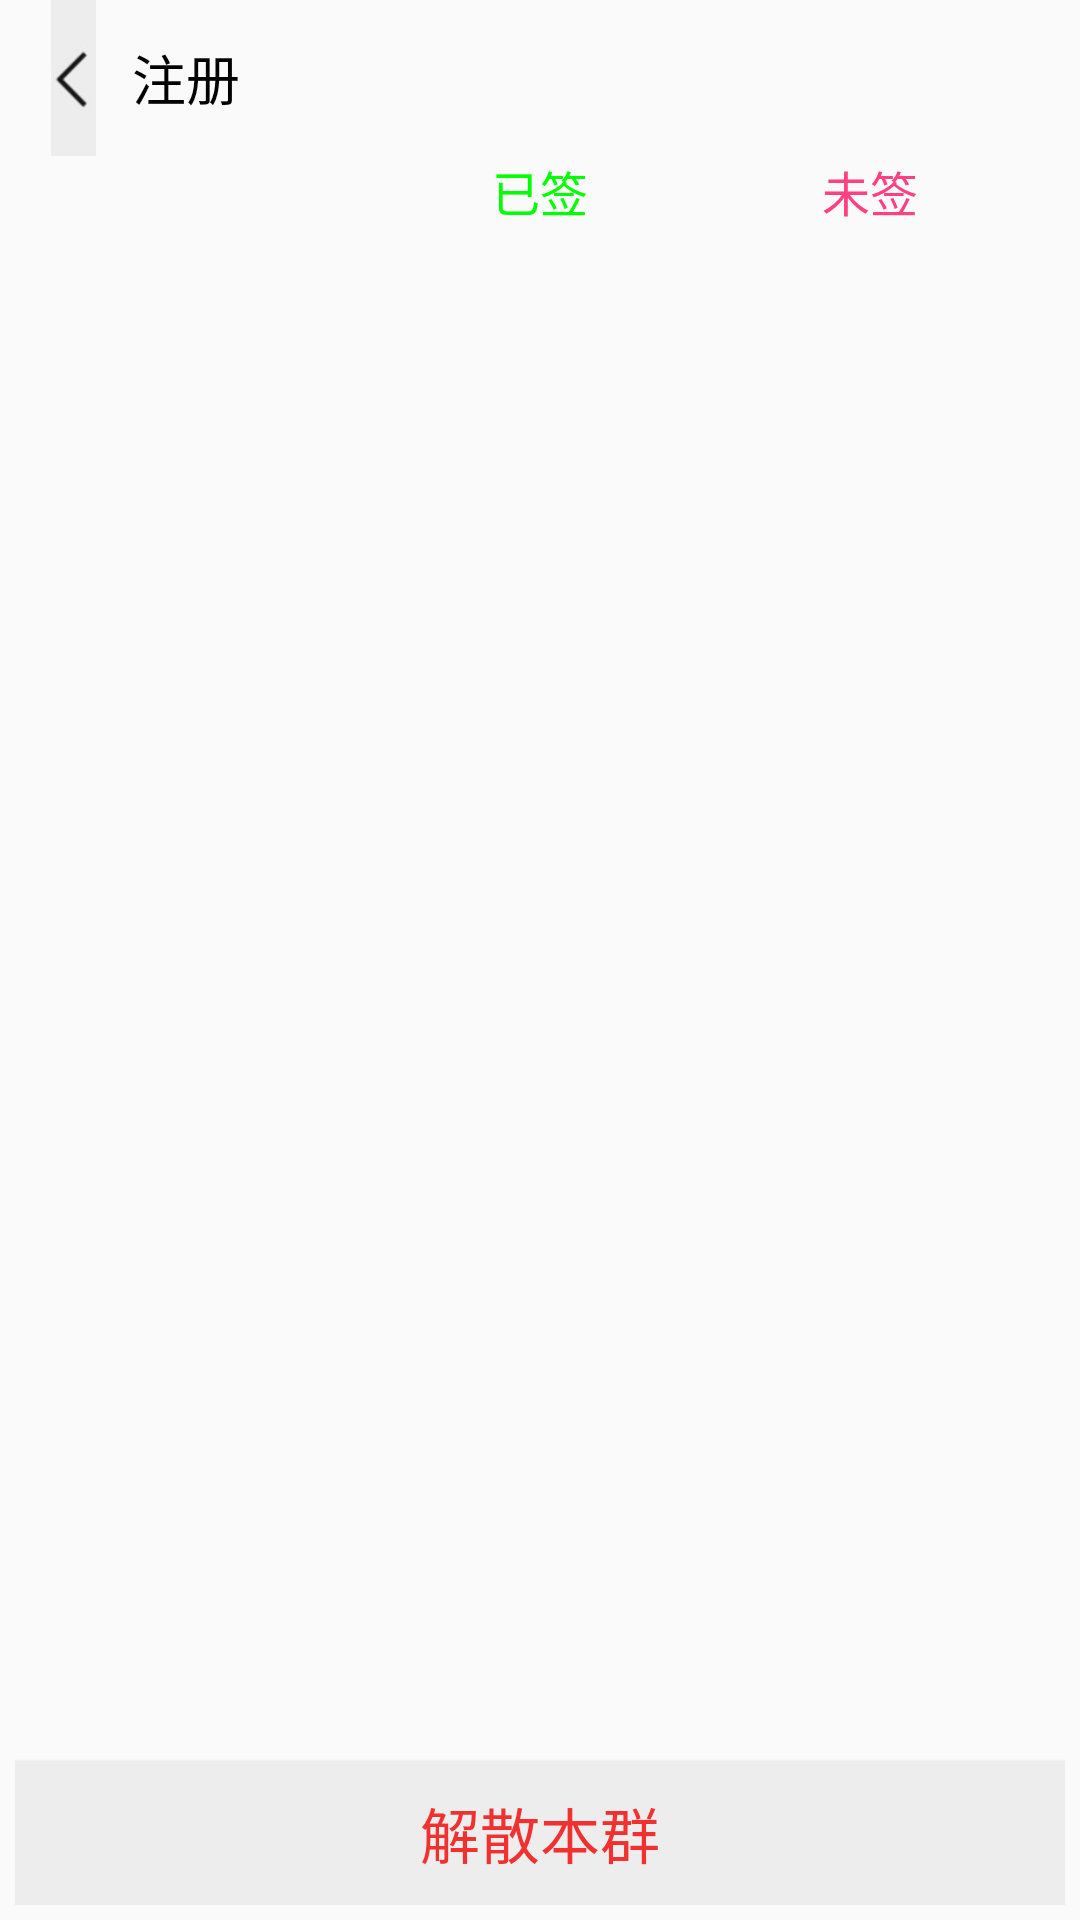

Point at icon controls on the screen. Image size 1080px×1920px, points as point (x, y).
backbutton: point (73, 78)
